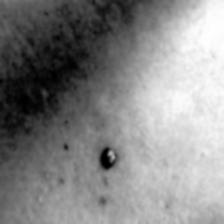Potentially Malignant Skin Tumors: (103, 145, 117, 167)
